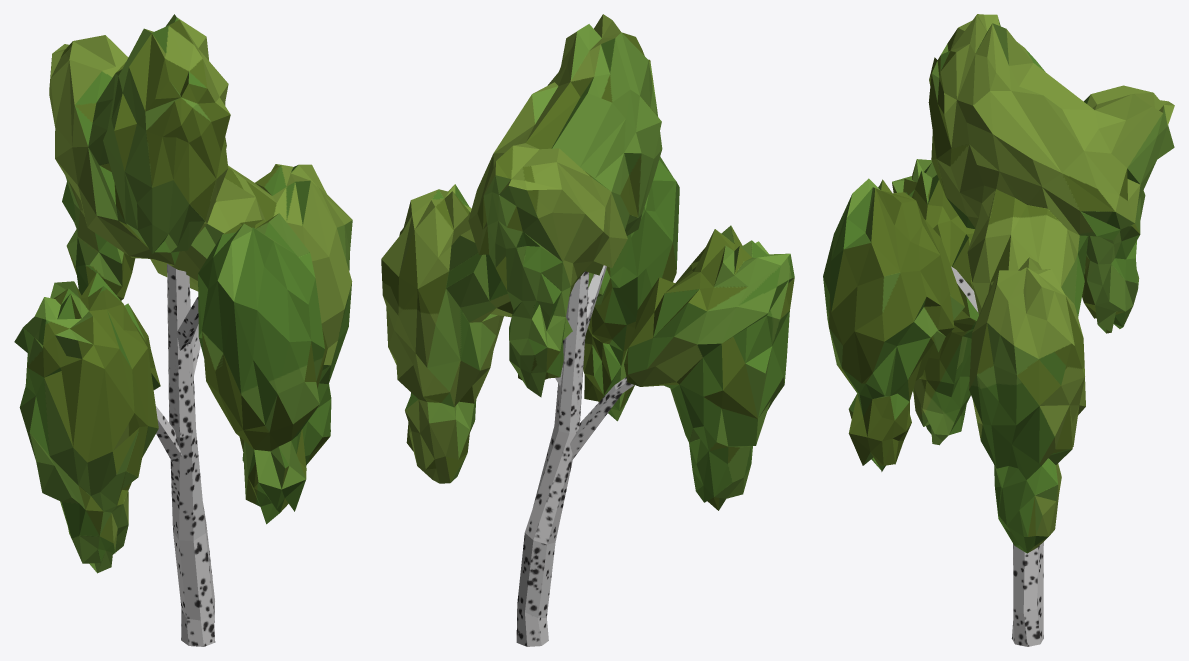
Rendered from tree10.glb.
3 views of the same model, side by side, from view 1: azimuth 30°, elevation 25°; view 2: azimuth 150°, elevation 25°; view 3: azimuth 270°, elevation 25° (orthographic). The views are drawn at different scales.
Parts seen in each view (by area): view 1: _10_tree; view 2: _10_tree; view 3: _10_tree.
Part boxes in pixels (bbox=[...]): _10_tree: bbox=[14, 14, 352, 646]; _10_tree: bbox=[381, 14, 794, 646]; _10_tree: bbox=[823, 14, 1174, 646].
Size of the model in its own units: 1.16 by 1.97 by 1.04.
1 material, 1 textured.
